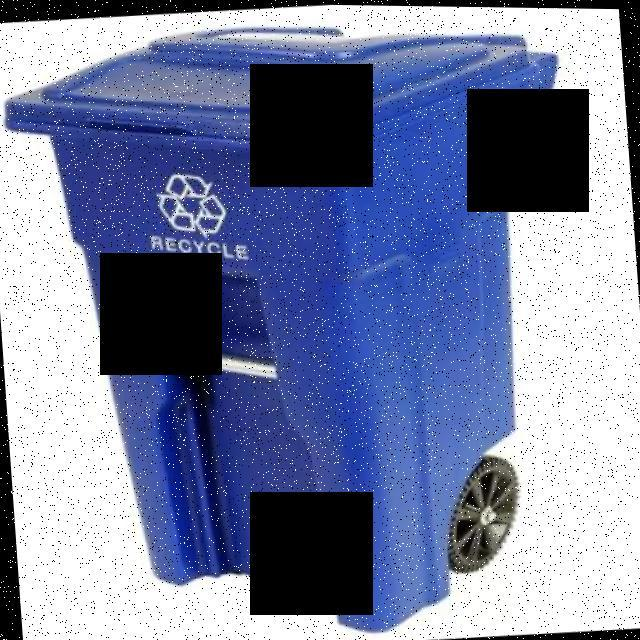bin: (0, 0, 611, 640)
